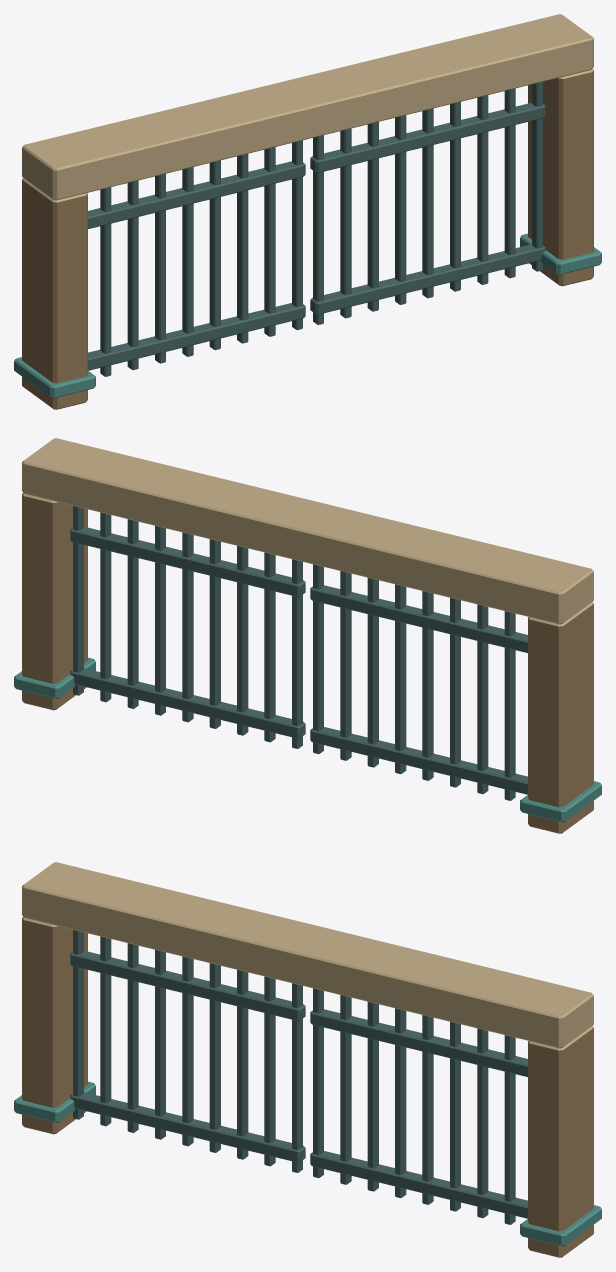
Rendered from gate-wide.glb.
3 views of the same model, one above another, from view 1: azimuth 30°, elevation 25°; view 2: azimuth 150°, elevation 25°; view 3: azimuth 330°, elevation 25° (orthographic).
Visible parts, largest first — view 1: gate-wide__body, gate-wide__leaf-right, gate-wide__leaf-left; view 2: gate-wide__body, gate-wide__leaf-right, gate-wide__leaf-left; view 3: gate-wide__body, gate-wide__leaf-left, gate-wide__leaf-right.
Boxes of the visible parts, bbox=[...] form: gate-wide__body: bbox=[14, 14, 601, 409]; gate-wide__leaf-right: bbox=[310, 82, 545, 324]; gate-wide__leaf-left: bbox=[88, 140, 305, 376]; gate-wide__body: bbox=[14, 438, 601, 833]; gate-wide__leaf-right: bbox=[70, 506, 305, 748]; gate-wide__leaf-left: bbox=[310, 564, 527, 800]; gate-wide__body: bbox=[14, 862, 601, 1257]; gate-wide__leaf-left: bbox=[70, 930, 305, 1172]; gate-wide__leaf-right: bbox=[310, 988, 527, 1224].
Size of the model in its own units: 4.69 by 1.96 by 0.58.
